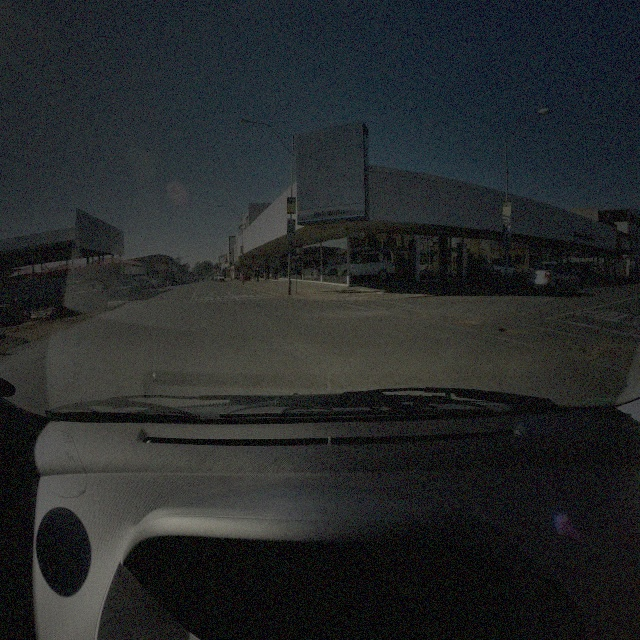pothole: (567, 342, 598, 358), (458, 314, 479, 328), (497, 326, 523, 336)
